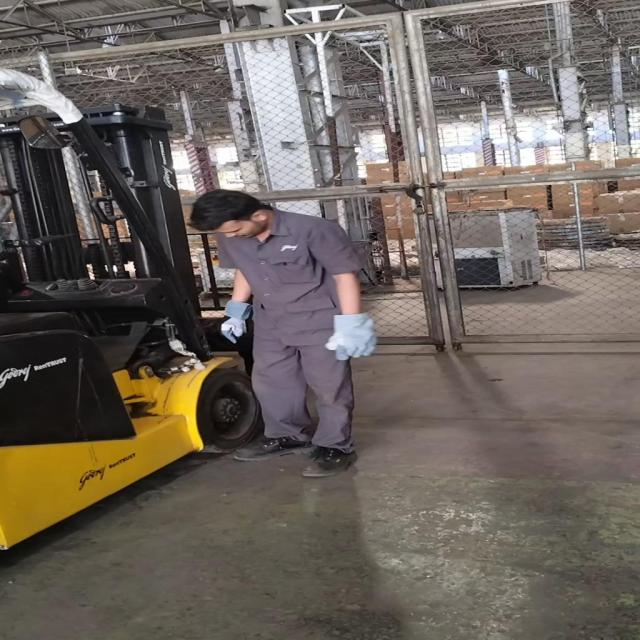Gloves-Detection: (323, 311, 370, 364), (214, 299, 254, 345)
